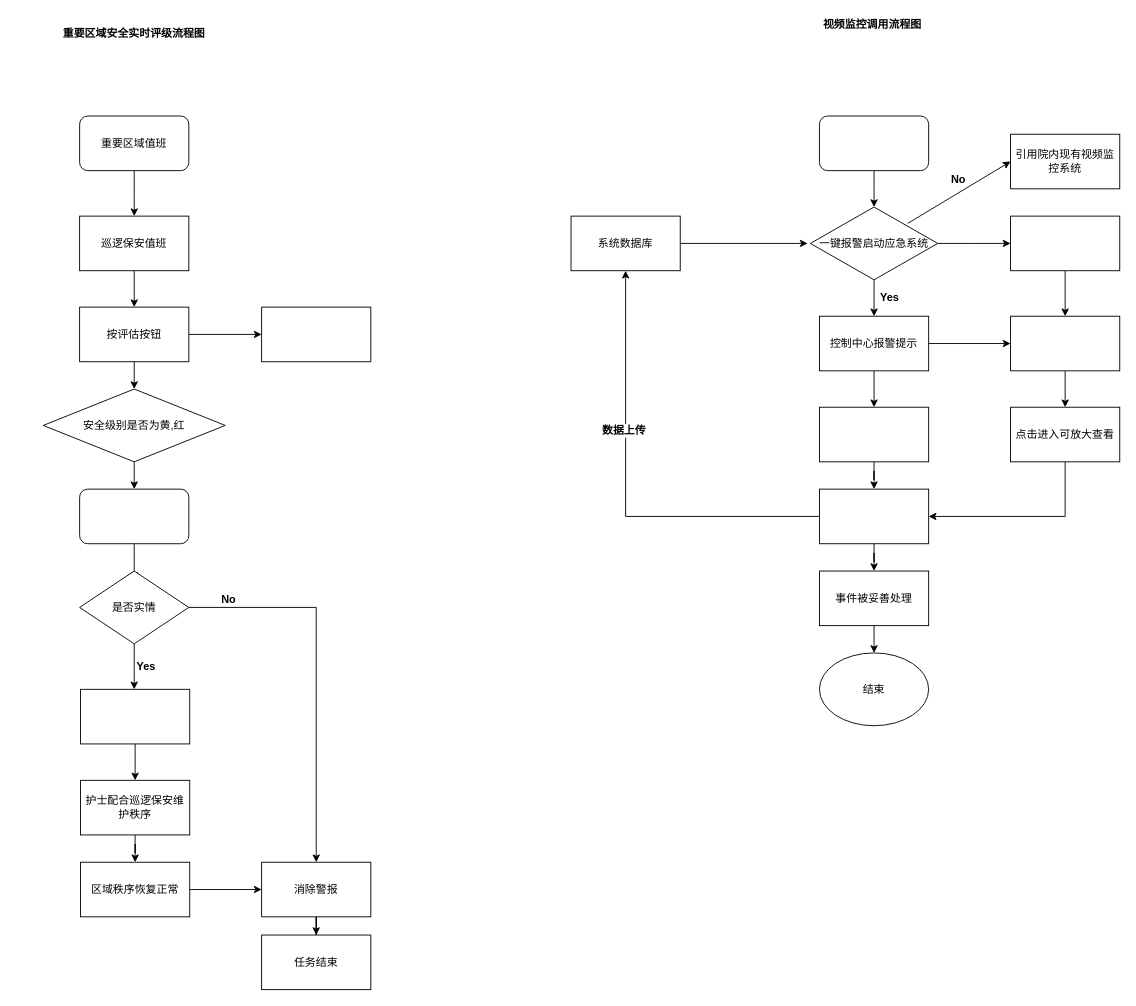
Image size: 1136x1006. Some labels were removed from this diagram. The box of each missing label's shape, as (x1, y1, x2, y2) in pixels:
一键调取监控: (79, 488, 189, 544)
主控制中心调用视频监控: (1010, 215, 1120, 271)
弹出相关视频画面: (1010, 315, 1120, 371)
总控室根据对应级别进行数据处理并显示: (261, 306, 371, 362)
总控室调派巡逻保安前往现场: (80, 688, 190, 744)
报告院主管领导: (819, 406, 929, 462)
指挥安保人员前往处理: (819, 488, 929, 544)
视频监控调用: (819, 115, 929, 171)
